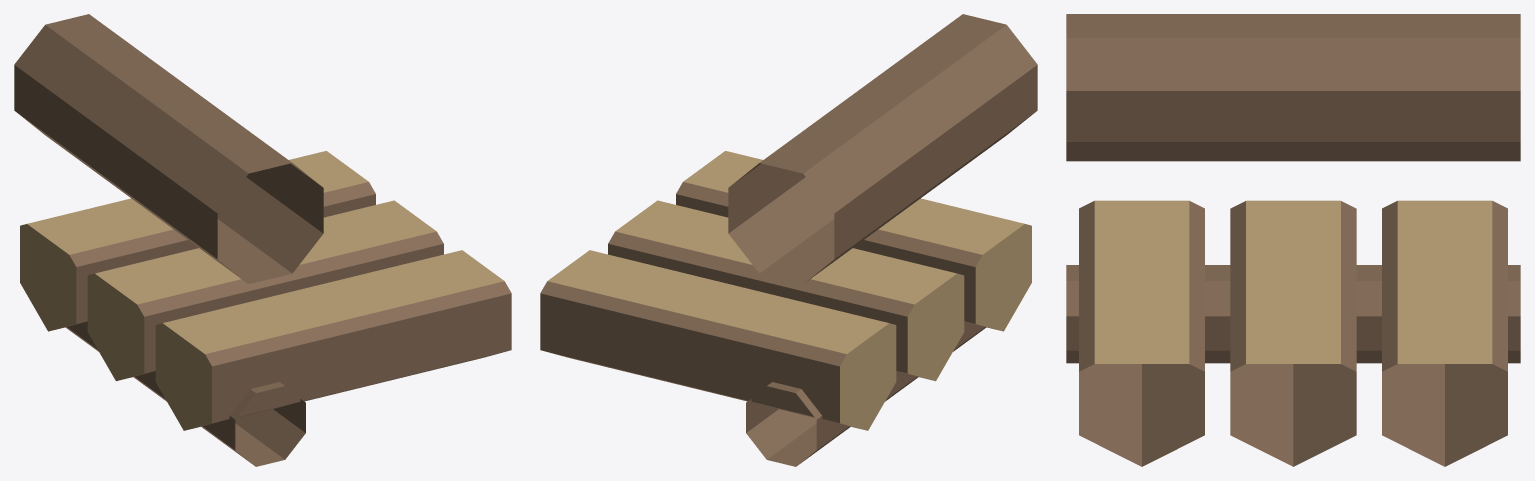
The model's file is Hilly_Prop_Bridge_Log_Middle_Edge.obj.
3 renders of one model, left to right at view 1: azimuth 30°, elevation 25°; view 2: azimuth 150°, elevation 25°; view 3: azimuth 270°, elevation 25°, orthographic. The views are drawn at different scales.
Parts seen in each view (by area): view 1: object2, object5, object4, object1, object3; view 2: object2, object1, object4, object5, object3; view 3: object2, object4, object1, object5, object3.
Part boxes in pixels (x1,y1,x2,y2): object2: [14, 14, 323, 283]; object5: [155, 250, 511, 430]; object4: [87, 200, 443, 381]; object1: [20, 151, 375, 331]; object3: [65, 321, 305, 466]; object2: [728, 14, 1037, 283]; object1: [540, 250, 896, 430]; object4: [608, 200, 964, 381]; object5: [676, 151, 1031, 331]; object3: [746, 321, 986, 466]; object2: [1066, 14, 1520, 161]; object4: [1230, 200, 1356, 466]; object1: [1382, 200, 1507, 466]; object5: [1079, 200, 1204, 466]; object3: [1066, 265, 1520, 363].
Bounding box in the file's own units: 0.85 × 0.8 × 1.
